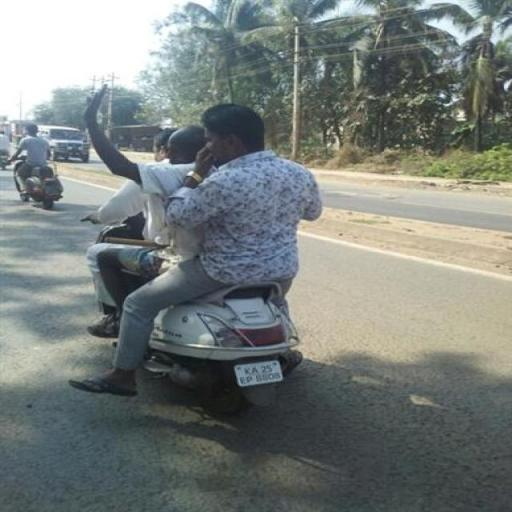tripple riding: (78, 101, 328, 273)
